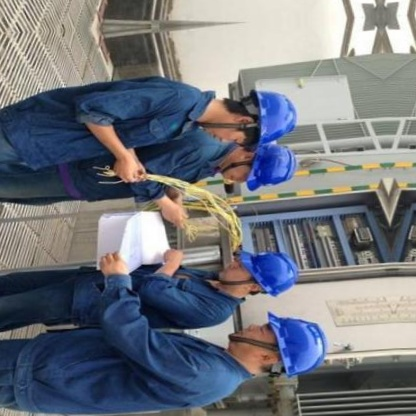blue: (258, 306, 335, 389), (234, 244, 304, 302), (245, 87, 304, 150), (243, 143, 304, 196)
